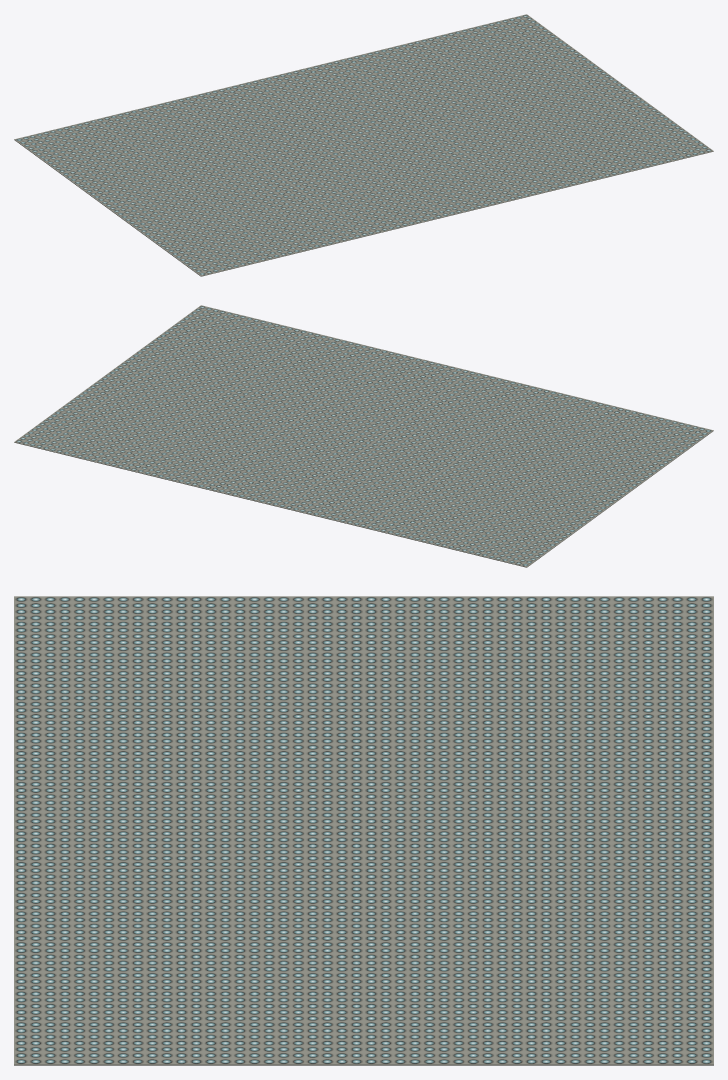
File: CA_119_cosmodrome_floor_holes_var6.glb
The picture shows the model from 3 angles, top to bottom: view 1: azimuth 30°, elevation 25°; view 2: azimuth 150°, elevation 25°; view 3: azimuth 270°, elevation 25°; orthographic projection. The views are drawn at different scales.
Visible parts, largest first — view 1: floor; view 2: floor; view 3: floor.
Boxes of the visible parts, x1,y1,x2,y2 form: floor: (14, 14, 713, 276); floor: (14, 305, 713, 567); floor: (14, 596, 713, 1065).
Bounding box in the file's own units: 14.25 × 0.0128 × 9.
Materials: 2 (1 with a texture image).
